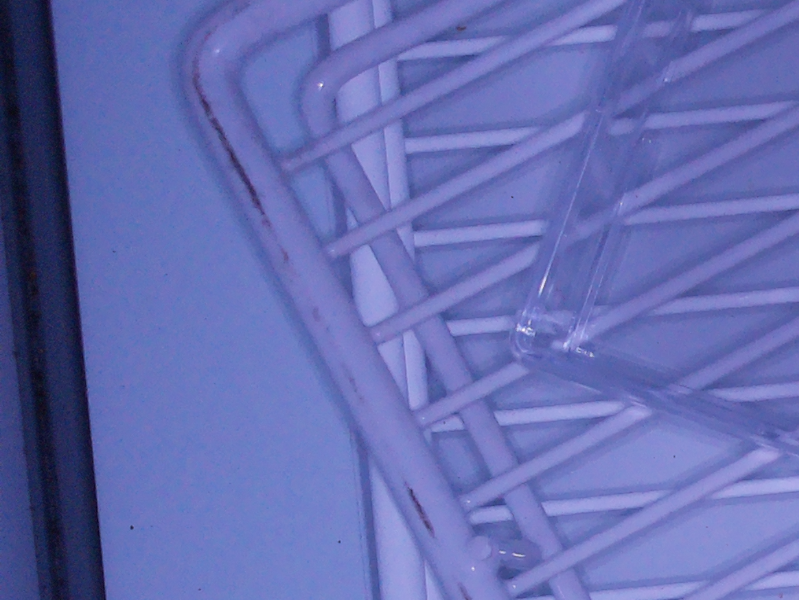plate: (505, 1, 799, 458)
